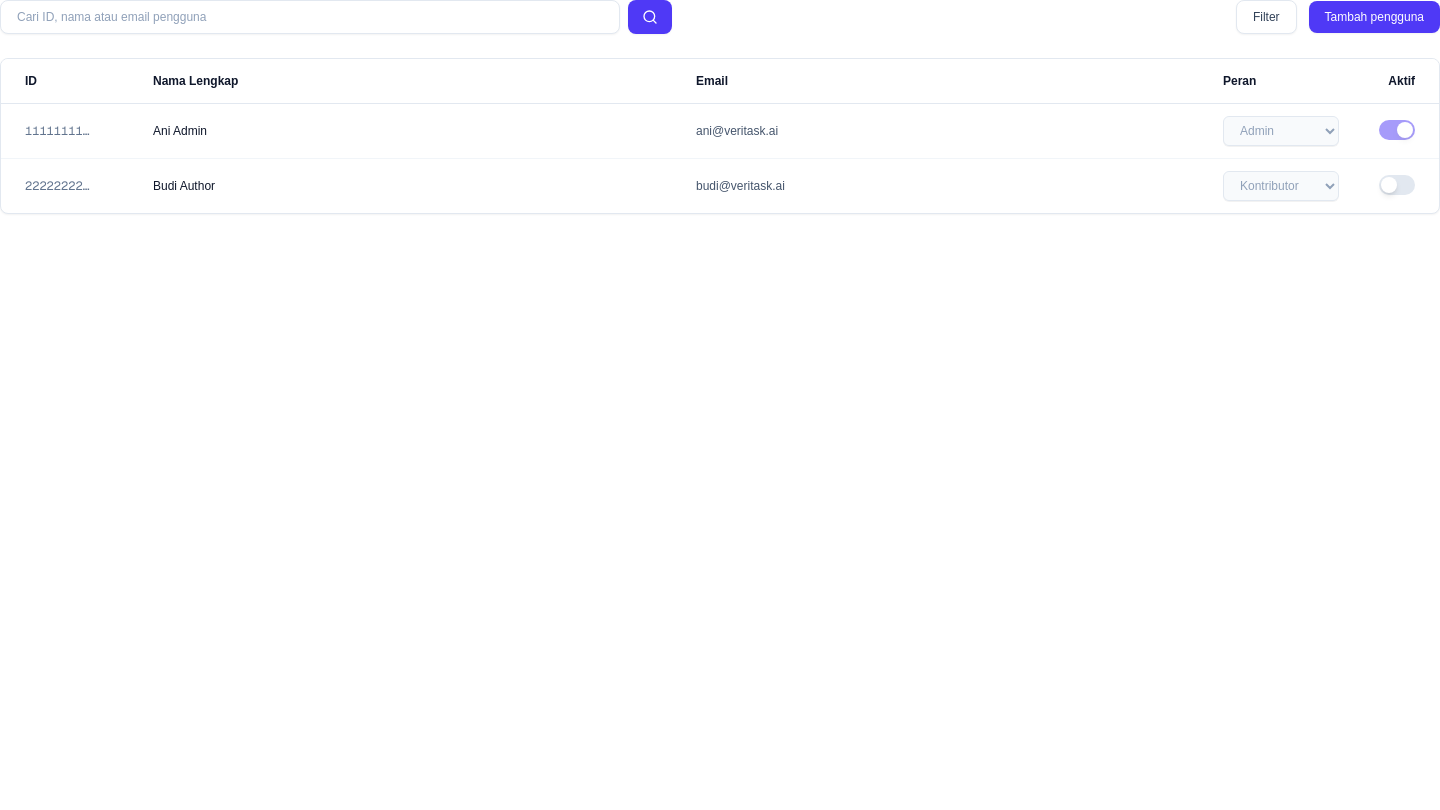
Test: AdminMembersPage, reactivating a member › keeps the row inactive and explains why when the server refuses
Click the button named "Toggle aktif Budi Author". click: (1397, 185)
box: x1=1379 y1=175 x2=1415 y2=195
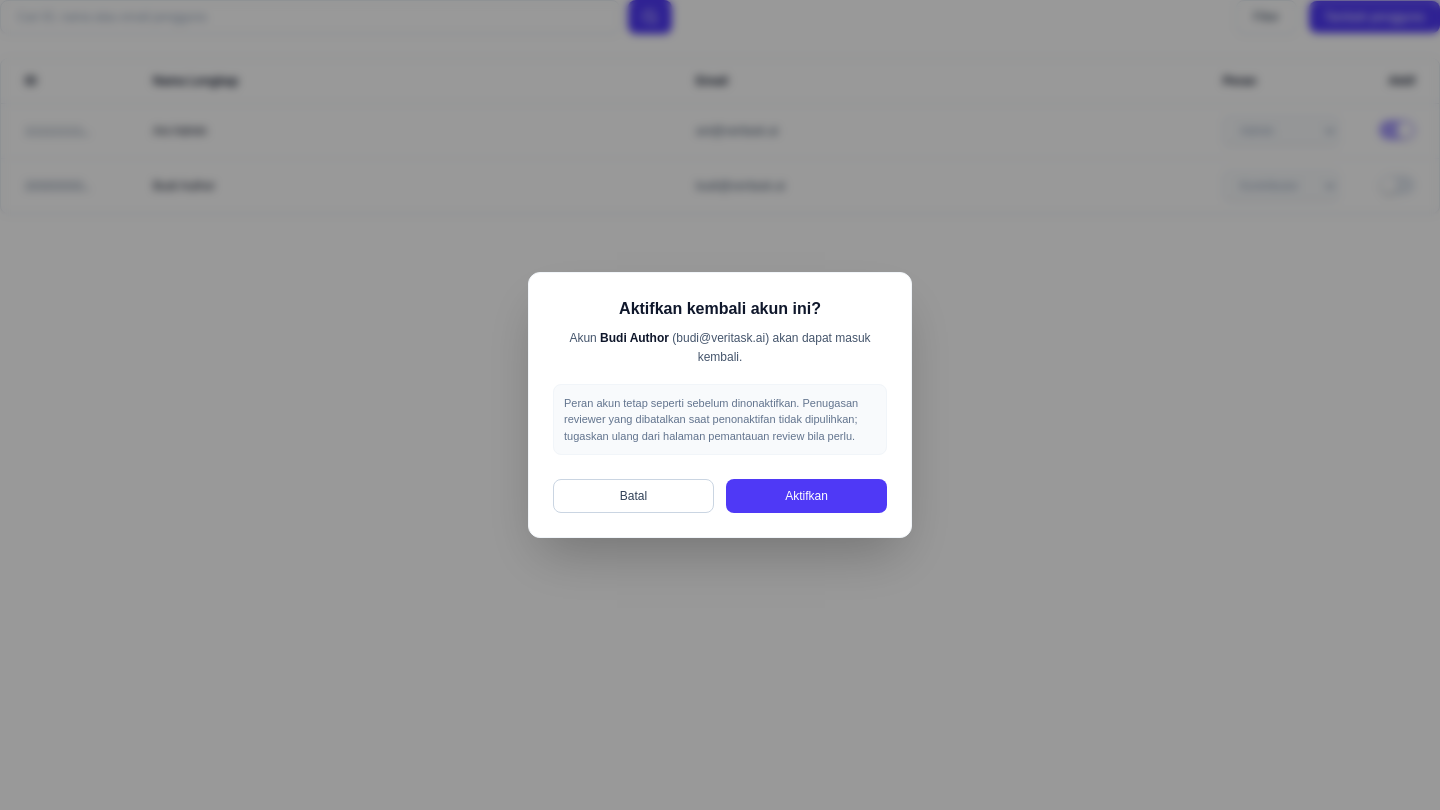
Click the button "Aktifkan". click: (806, 496)
box: x1=726 y1=479 x2=887 y2=513
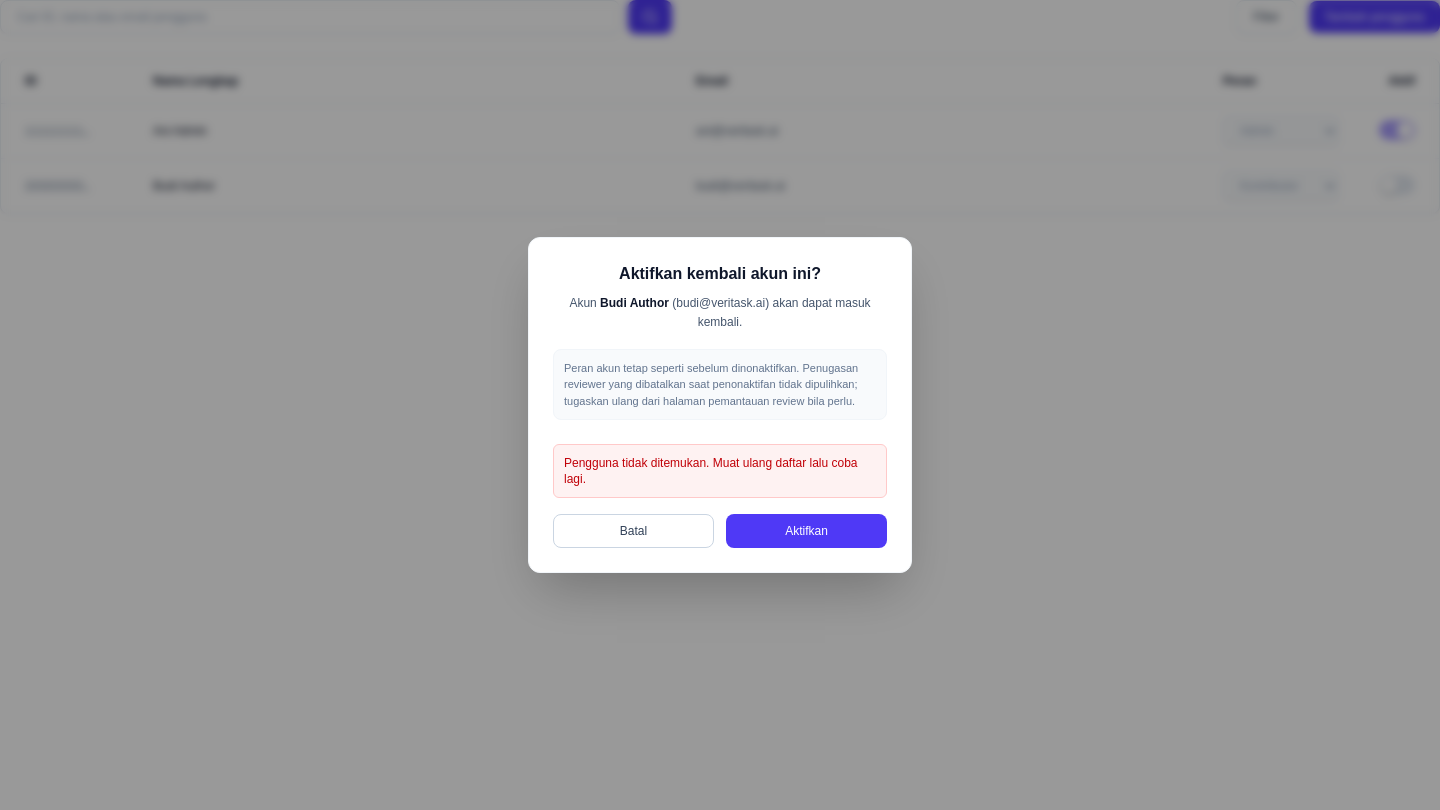
Expected: the message shows "Pengguna tidak ditemukan.", x1=564 y1=456 x2=858 y2=486
